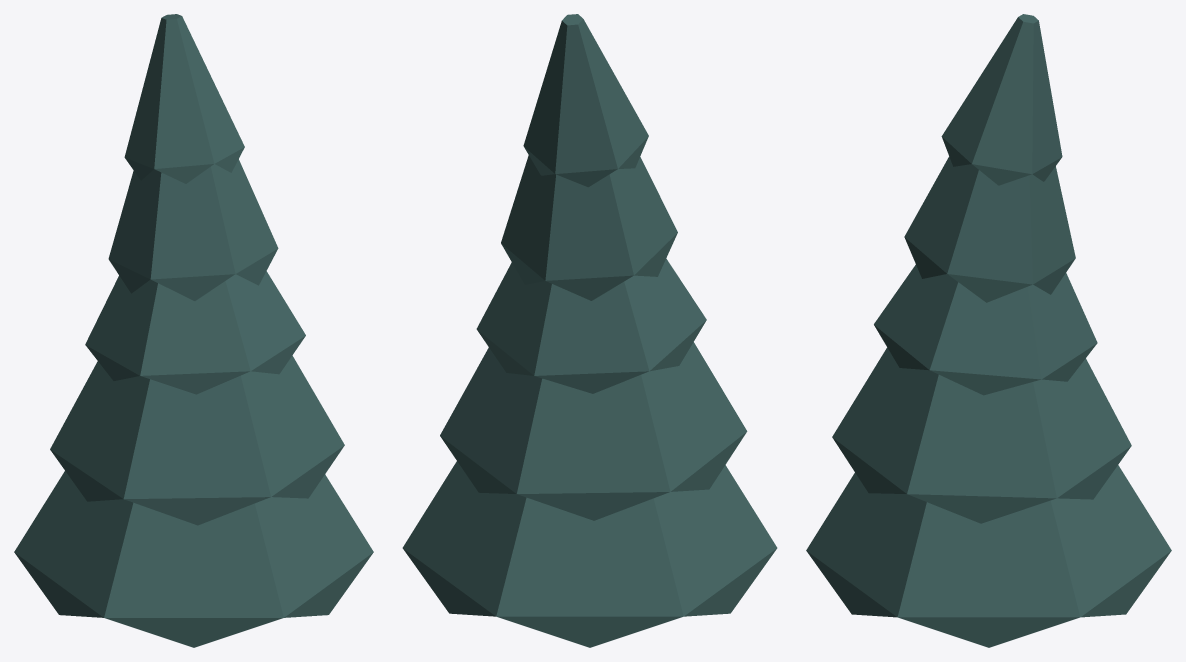
File: naturePack_087.obj
3 views of the same model, side by side, from view 1: azimuth 30°, elevation 25°; view 2: azimuth 150°, elevation 25°; view 3: azimuth 270°, elevation 25° (orthographic). The views are drawn at different scales.
Parts seen in each view (by area): view 1: Mesh1_Group1_Model.061; view 2: Mesh1_Group1_Model.061; view 3: Mesh1_Group1_Model.061.
Part boxes in pixels (x1,y1,x2,y2): Mesh1_Group1_Model.061: [14, 14, 373, 647]; Mesh1_Group1_Model.061: [402, 14, 777, 647]; Mesh1_Group1_Model.061: [806, 14, 1171, 647].
Bounding box in the file's own units: 1.92 × 3.77 × 2.22.
